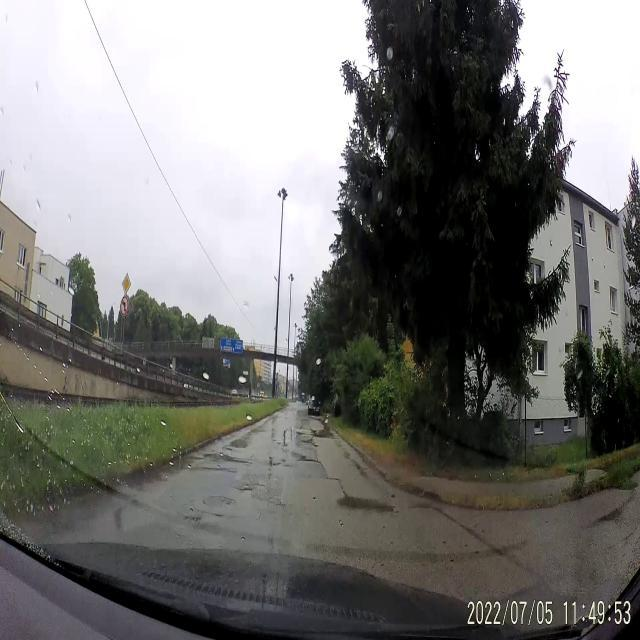Manhole: (200, 489, 238, 514)
